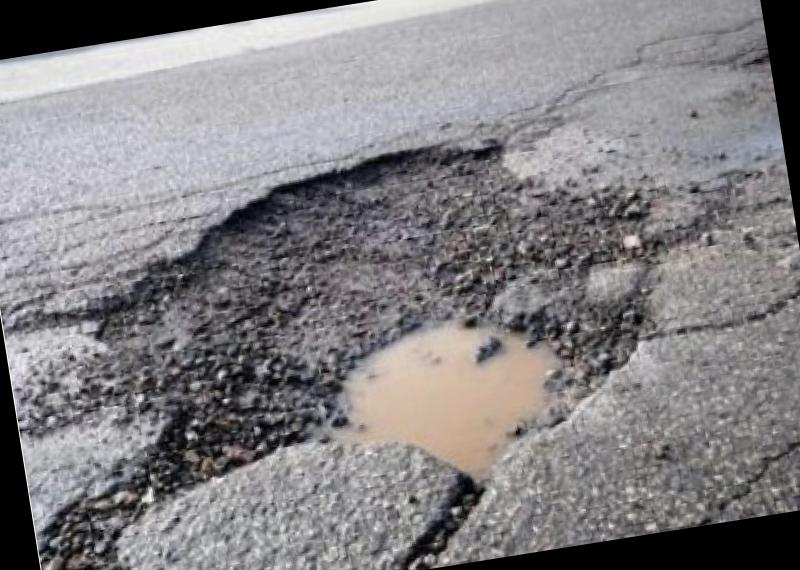pothole: (24, 65, 751, 570)
